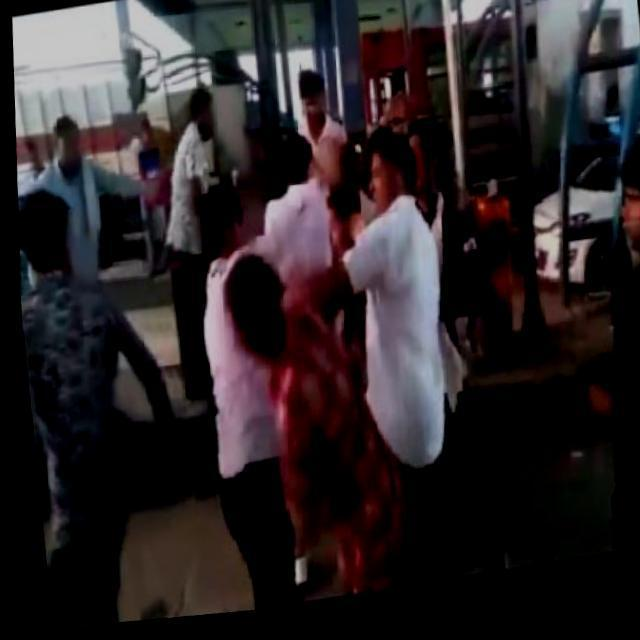fight: (172, 165, 386, 590)
